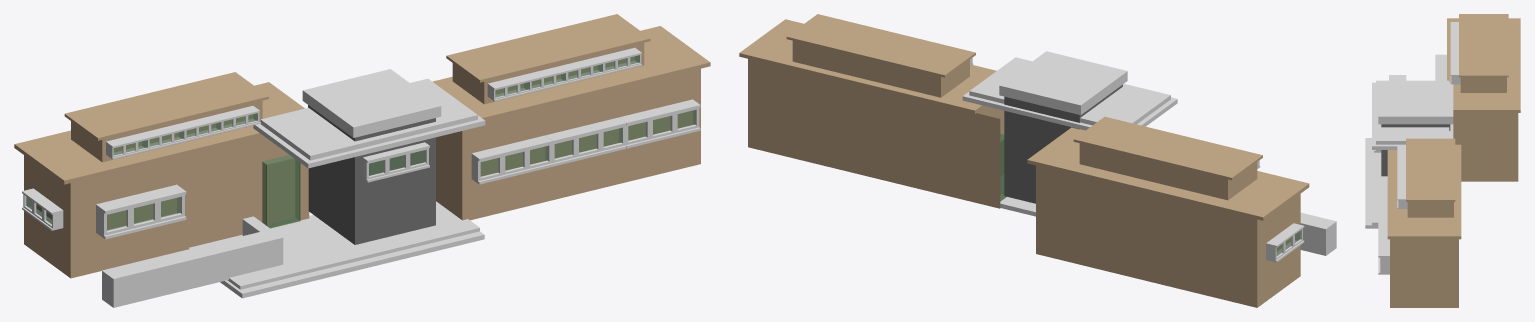
Rendered from 화장실 모델링.fbx.
The picture shows the model from 3 angles, left to right: view 1: azimuth 30°, elevation 25°; view 2: azimuth 150°, elevation 25°; view 3: azimuth 270°, elevation 25°; orthographic projection. The views are drawn at different scales.
Parts seen in each view (by area): view 1: pCube22, pCube1, pCube18, pCube8, pCube29, polySurface3, polySurface2, pCube2, pCube23, polySurface4, polySurface1, pCube24 (+5 smaller); view 2: pCube22, pCube1, pCube18, pCube8, polySurface2, pCube29, polySurface1, pCube28, polySurface3; view 3: pCube22, pCube1, pCube8, pCube18, polySurface2, polySurface4, polySurface3, polySurface1, pCube2, pCube12, pCube11, pCube10 (+1 smaller).
Boxes of the visible parts, left/top/right/bottom form: pCube22: left=432, top=14, right=710, bottom=220; pCube1: left=14, top=82, right=309, bottom=278; pCube18: left=302, top=69, right=441, bottom=244; pCube8: left=64, top=72, right=268, bottom=162; pCube29: left=102, top=216, right=283, bottom=307; polySurface3: left=188, top=201, right=479, bottom=289; polySurface2: left=260, top=78, right=477, bottom=160; pCube2: left=96, top=184, right=186, bottom=239; pCube23: left=262, top=155, right=300, bottom=228; polySurface4: left=220, top=231, right=484, bottom=298; polySurface1: left=253, top=115, right=485, bottom=168; pCube24: left=363, top=142, right=429, bottom=182; pCube22: left=739, top=14, right=1004, bottom=208; pCube1: left=1027, top=127, right=1309, bottom=307; pCube18: left=999, top=51, right=1127, bottom=203; pCube8: left=1073, top=116, right=1262, bottom=200; polySurface2: left=969, top=57, right=1170, bottom=125; pCube29: left=1300, top=212, right=1336, bottom=255; polySurface1: left=962, top=91, right=1177, bottom=130; pCube28: left=1266, top=223, right=1304, bottom=262; polySurface3: left=1000, top=197, right=1035, bottom=216; pCube22: left=1378, top=138, right=1461, bottom=307; pCube1: left=1447, top=18, right=1520, bottom=181; pCube8: left=1459, top=14, right=1508, bottom=92; pCube18: left=1378, top=85, right=1453, bottom=176; polySurface2: left=1376, top=80, right=1449, bottom=144; polySurface4: left=1365, top=138, right=1378, bottom=228; polySurface3: left=1372, top=150, right=1381, bottom=226; polySurface1: left=1372, top=82, right=1453, bottom=149; pCube2: left=1435, top=54, right=1446, bottom=80; pCube12: left=1450, top=61, right=1460, bottom=84; pCube11: left=1450, top=48, right=1458, bottom=61; pCube10: left=1450, top=35, right=1458, bottom=48.
Size of the model in its own units: 7.52 by 1.59 by 2.25.
